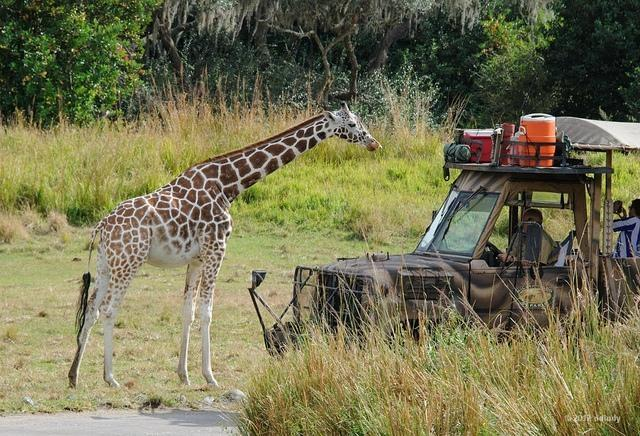truck: (260, 113, 640, 356)
